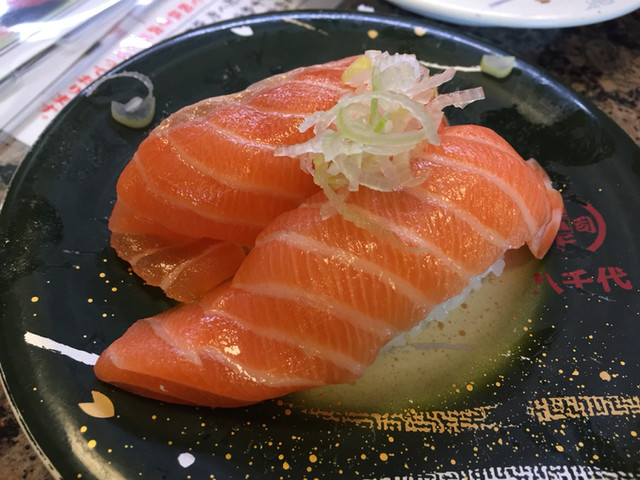salmon: (83, 49, 568, 418)
